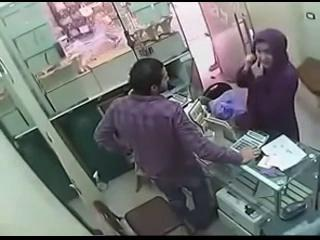Normal: (94, 58, 262, 232), (232, 29, 300, 142), (93, 196, 190, 236), (229, 128, 270, 154)
